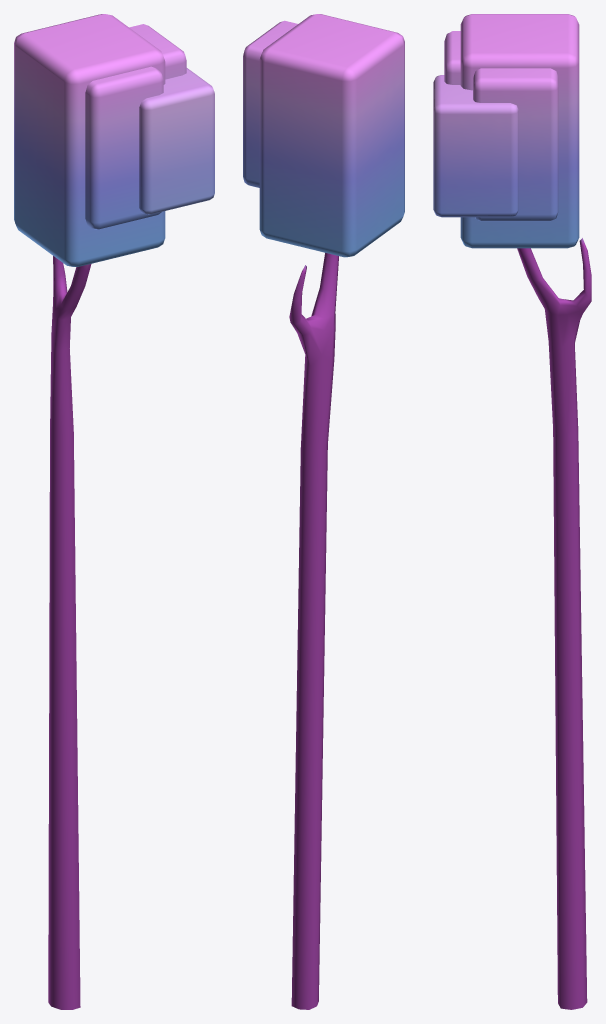
File: Tree04.fbx
3 views of the same model, side by side, from view 1: azimuth 30°, elevation 25°; view 2: azimuth 150°, elevation 25°; view 3: azimuth 270°, elevation 25° (orthographic). The views are drawn at different scales.
Visible parts, largest first — view 1: Tree04; view 2: Tree04; view 3: Tree04.
Part boxes in pixels (x1,y1,x2,y2): Tree04: [14, 14, 214, 1009]; Tree04: [243, 14, 404, 1009]; Tree04: [433, 14, 591, 1009].
Size of the model in its own units: 694 by 4844 by 718.
